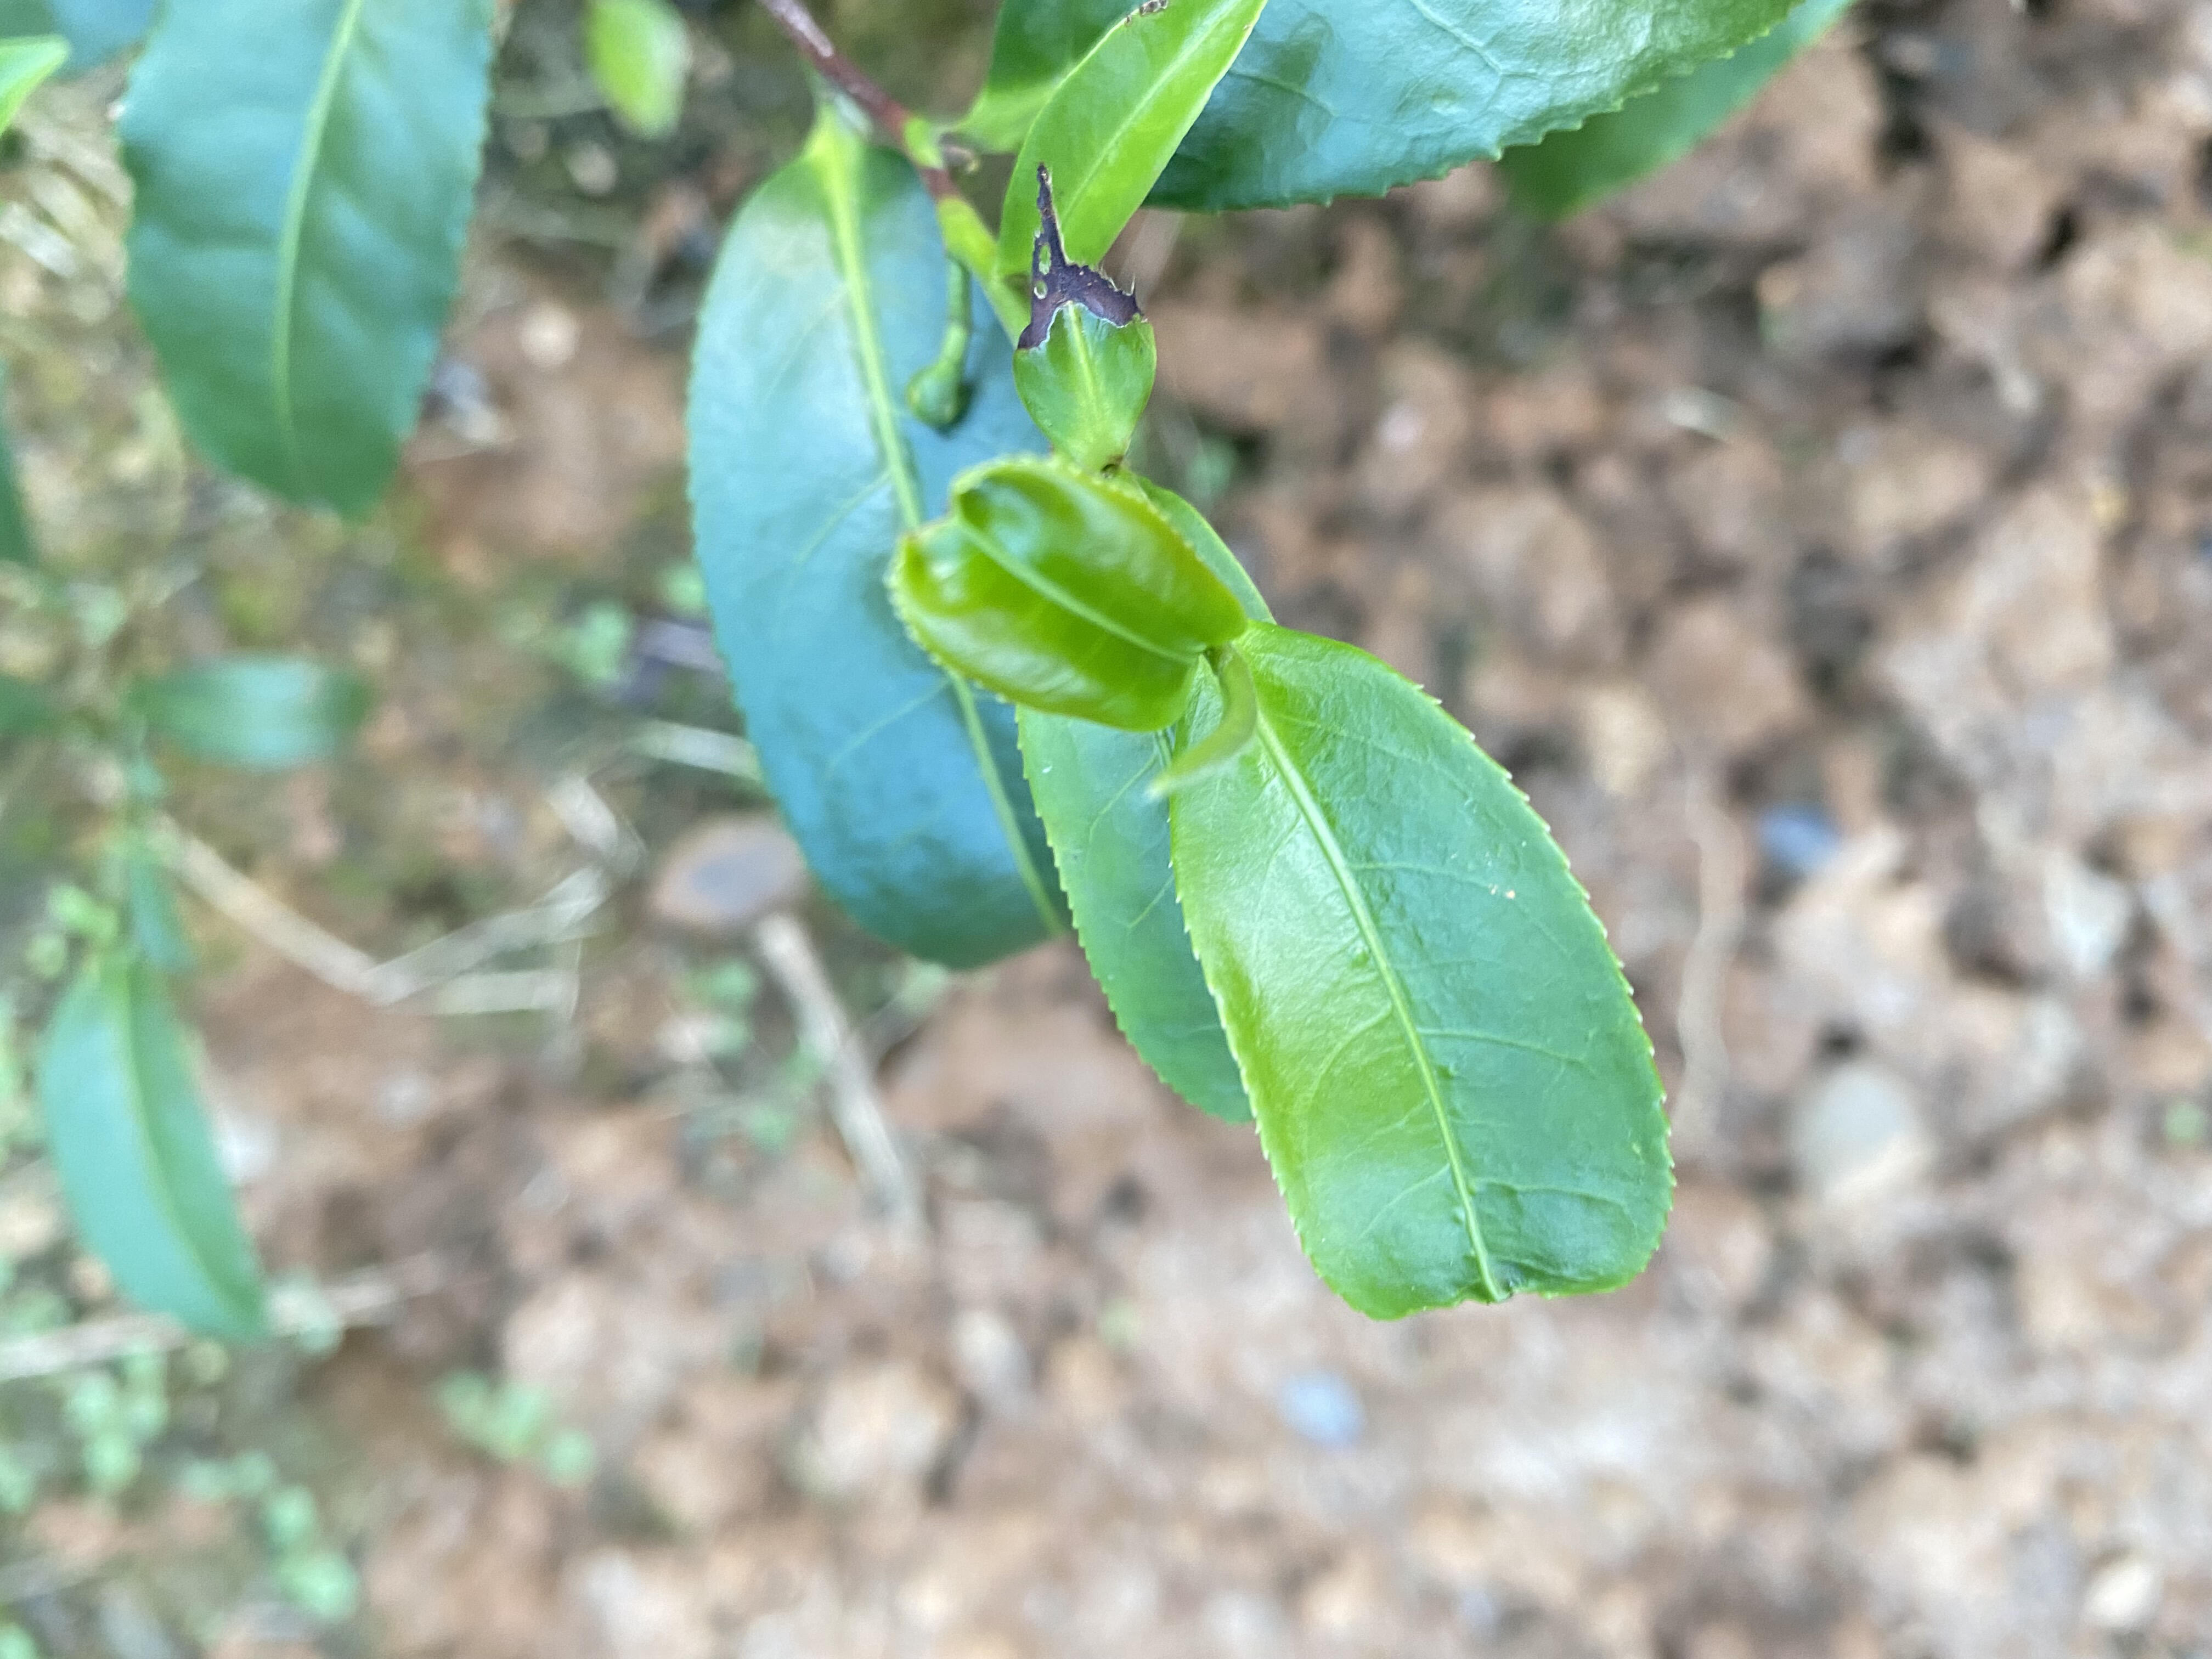chihuo_low: (885, 455, 1245, 737)
healthy: (115, 3, 498, 526)
tanju_high: (1015, 164, 1160, 472)
